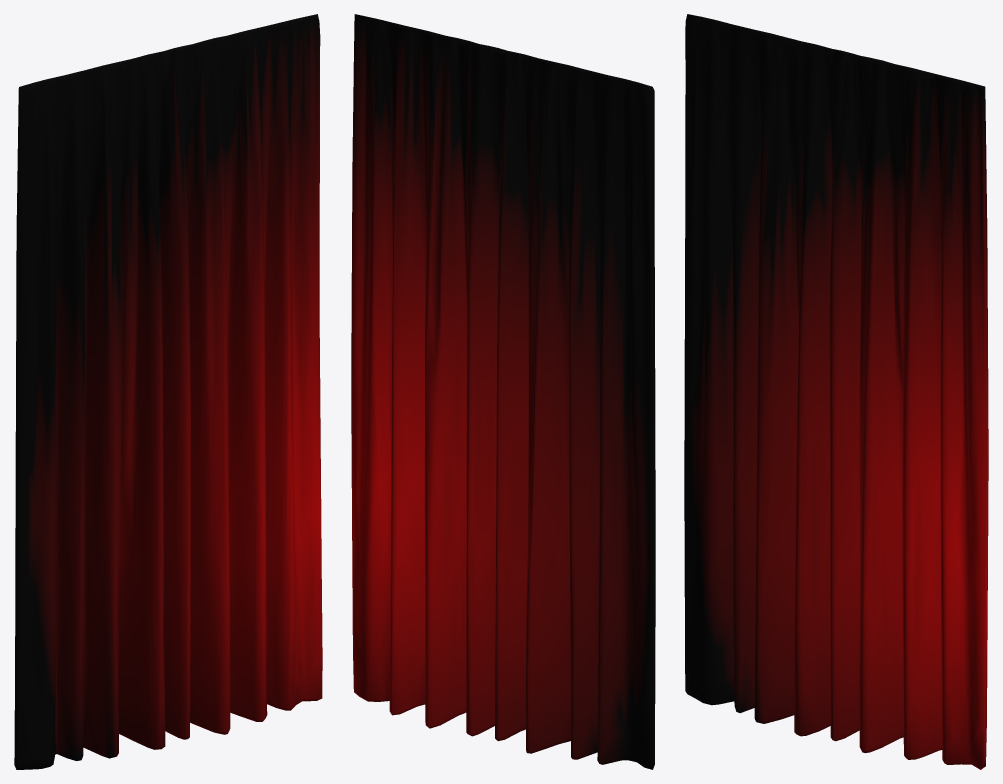
The model's file is SM_Curtain_Mover_L.fbx.
3 views of the same model, side by side, from view 1: azimuth 30°, elevation 25°; view 2: azimuth 150°, elevation 25°; view 3: azimuth 330°, elevation 25° (orthographic).
Parts seen in each view (by area): view 1: SM_Curtain_Mover_L; view 2: SM_Curtain_Mover_L; view 3: SM_Curtain_Mover_L.
Part boxes in pixels (left/top/right/bottom): SM_Curtain_Mover_L: left=14, top=14, right=322, bottom=769; SM_Curtain_Mover_L: left=351, top=14, right=655, bottom=769; SM_Curtain_Mover_L: left=684, top=14, right=988, bottom=769.
Size of the model in its own units: 0.929 by 2 by 0.1836.
